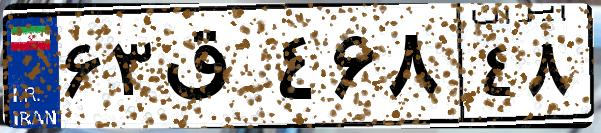3: (110, 28, 158, 98)
4: (270, 28, 330, 110), (475, 38, 525, 113)
6: (330, 28, 385, 110), (57, 26, 110, 100)
8: (385, 28, 445, 110), (525, 38, 570, 115)
ق: (158, 20, 270, 120)
